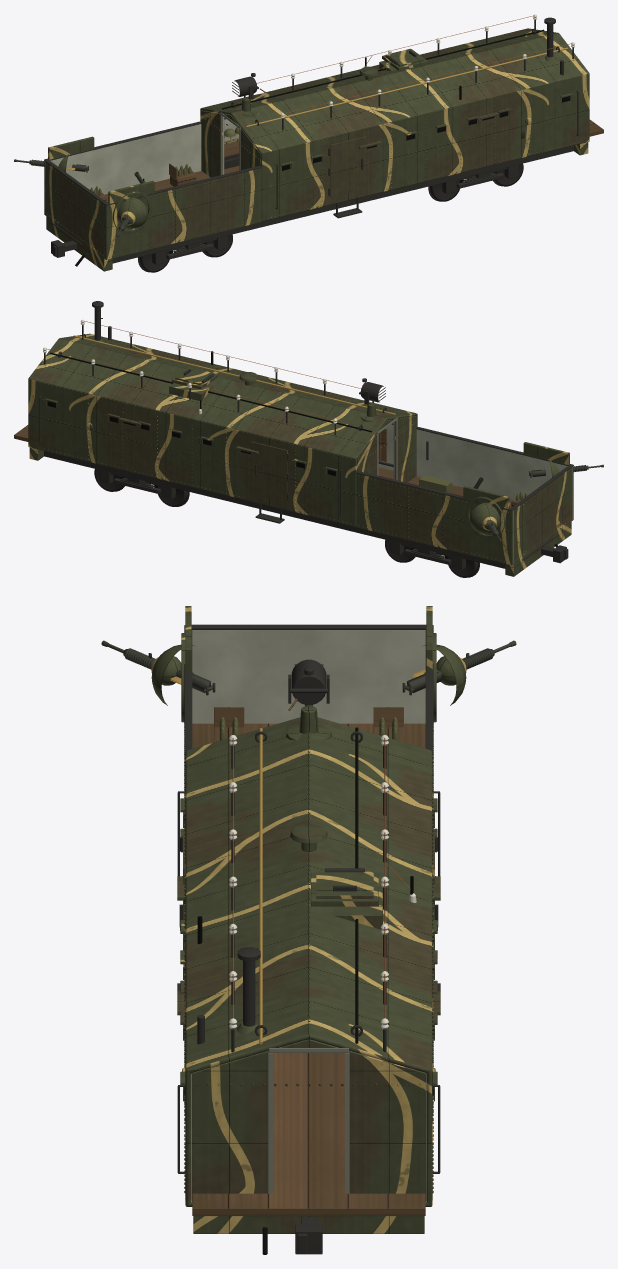
Rendered from power_car.glb.
3 views of the same model, one above another, from view 1: azimuth 30°, elevation 25°; view 2: azimuth 150°, elevation 25°; view 3: azimuth 270°, elevation 25° (orthographic). The views are drawn at different scales.
Parts seen in each view (by area): view 1: HullShell, PitStructure, HullDetails, HullInterior, Underframe, Bogies, HullRivets, MG_RR_Housing, PitRivets, PitMgRings, Wheelset_0; view 2: HullShell, PitStructure, HullDetails, HullInterior, Underframe, Bogies, HullRivets, MG_RL_Housing, PitRivets, PitMgRings; view 3: HullShell, HullInterior, PitStructure, HullDetails, Underframe, HullRivets, MG_RL_Gun, MG_RR_Gun.
Boxes of the visible parts, <box> form: HullShell: <box>200,28,589,221</box>; PitStructure: <box>44,121,261,259</box>; HullDetails: <box>231,14,578,218</box>; HullInterior: <box>195,29,603,180</box>; Underframe: <box>46,142,588,271</box>; Bogies: <box>152,164,518,264</box>; HullRivets: <box>202,35,578,219</box>; MG_RR_Housing: <box>117,197,148,228</box>; PitRivets: <box>46,164,259,257</box>; PitMgRings: <box>113,191,152,233</box>; Wheelset_0: <box>428,180,459,201</box>; HullShell: <box>28,333,417,526</box>; PitStructure: <box>356,427,573,565</box>; HullDetails: <box>39,301,386,523</box>; HullInterior: <box>14,326,420,485</box>; Underframe: <box>29,447,571,576</box>; Bogies: <box>99,470,465,570</box>; HullRivets: <box>39,340,415,524</box>; MG_RL_Housing: <box>469,502,500,533</box>; PitRivets: <box>358,470,571,562</box>; PitMgRings: <box>465,496,505,538</box>; HullShell: <box>185,717,432,1206</box>; HullInterior: <box>184,727,426,1215</box>; PitStructure: <box>184,606,433,775</box>; HullDetails: <box>177,659,440,1173</box>; Underframe: <box>193,1216,424,1254</box>; HullRivets: <box>184,732,433,1192</box>; MG_RL_Gun: <box>402,640,516,695</box>; MG_RR_Gun: <box>101,640,215,695</box>.
Size of the model in its own units: 15.32 by 4.47 by 5.2.
Materials: 15 (3 with a texture image).
